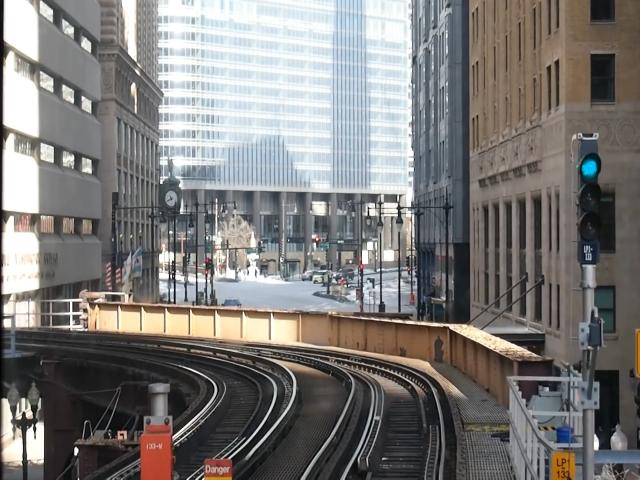signal light: (576, 139, 608, 264)
